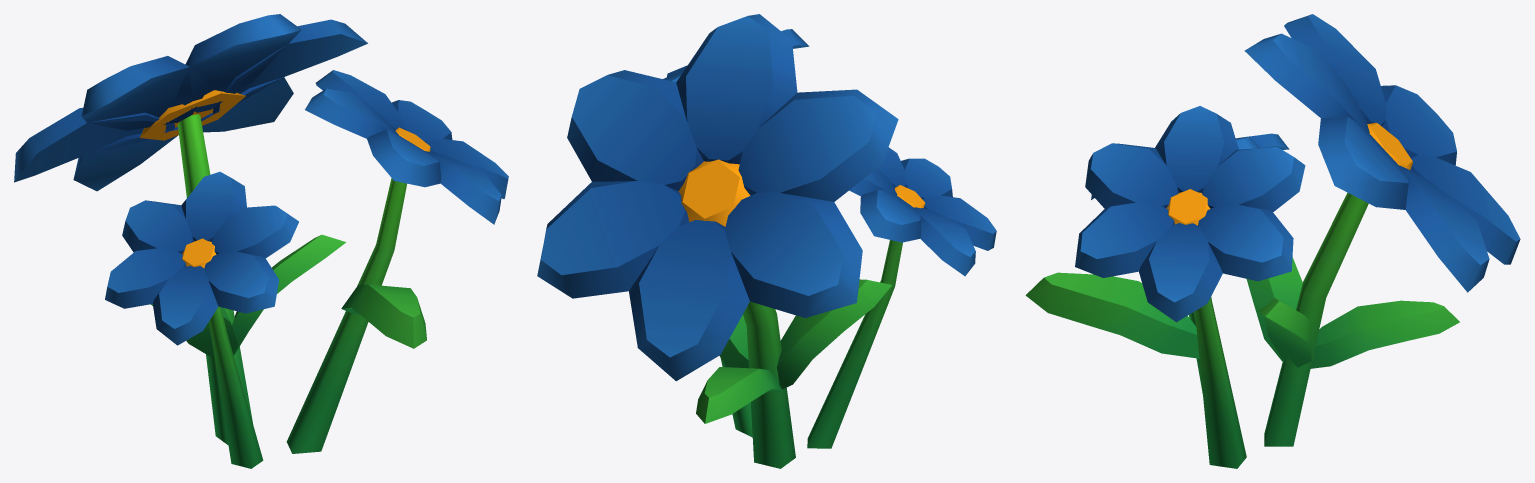
File: Flowers_1_B.fbx
3 renders of one model, left to right at view 1: azimuth 30°, elevation 25°; view 2: azimuth 150°, elevation 25°; view 3: azimuth 270°, elevation 25°, orthographic. The views are drawn at different scales.
Visible parts, largest first — view 1: Flowers_1_B; view 2: Flowers_1_B; view 3: Flowers_1_B.
Boxes of the visible parts, x1,y1,x2,y2 form: Flowers_1_B: (14,14,508,468); Flowers_1_B: (537,14,996,468); Flowers_1_B: (1025,14,1520,468).
Bounding box in the file's own units: 39.76 × 41.95 × 45.41.
